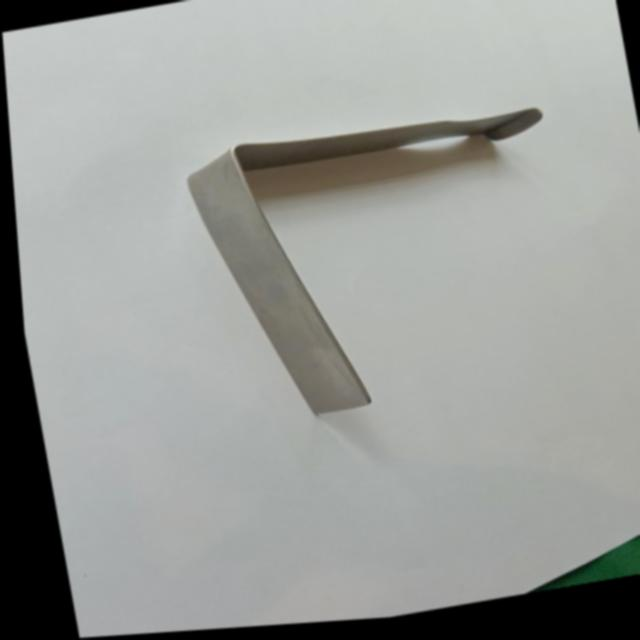AustinRetractor: (162, 92, 591, 441)
